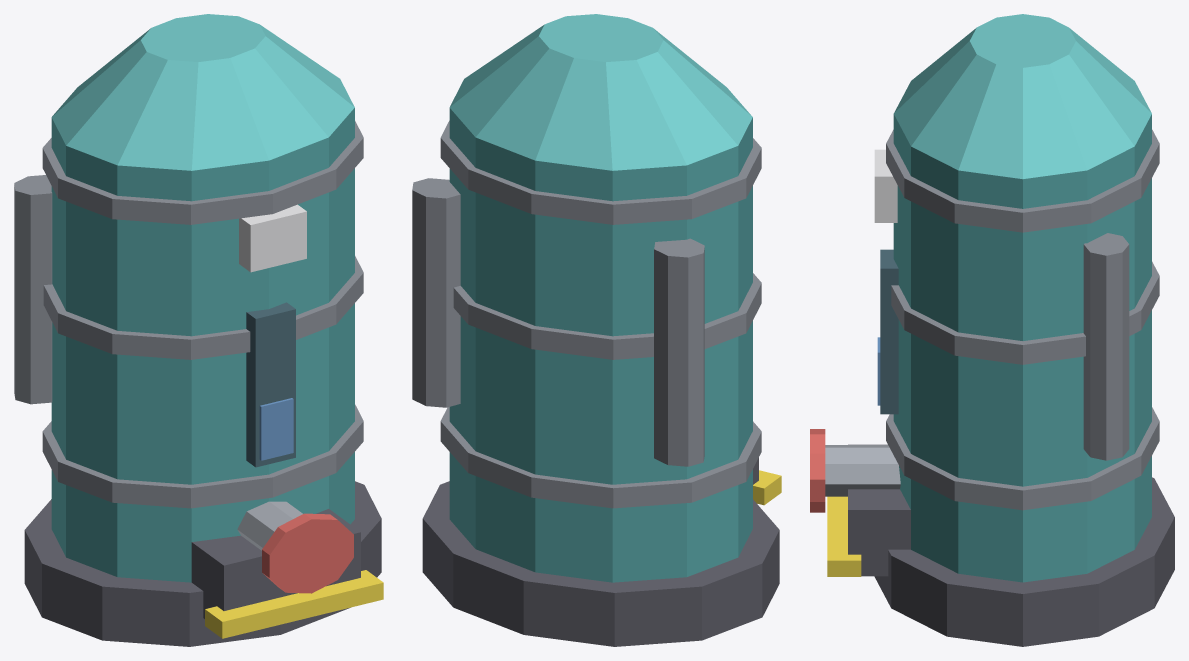
The model's file is condenser.glb.
3 views of the same model, side by side, from view 1: azimuth 30°, elevation 25°; view 2: azimuth 150°, elevation 25°; view 3: azimuth 270°, elevation 25° (orthographic). The views are drawn at different scales.
Parts seen in each view (by area): view 1: condenser; view 2: condenser; view 3: condenser.
Boxes of the visible parts, x1,y1,x2,y2 form: condenser: (14, 14, 383, 646); condenser: (412, 14, 781, 646); condenser: (810, 14, 1174, 646).
Size of the model in its own units: 1 by 1.6 by 1.
